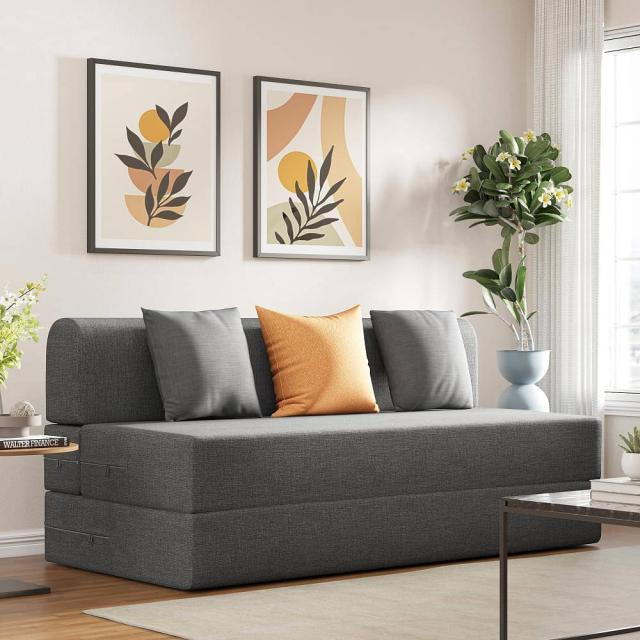sofa: (42, 310, 603, 592)
